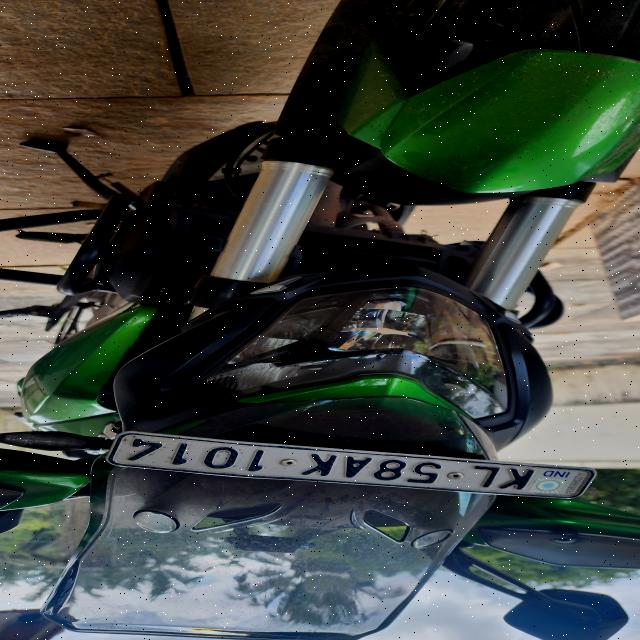headlight: (200, 286, 512, 421)
